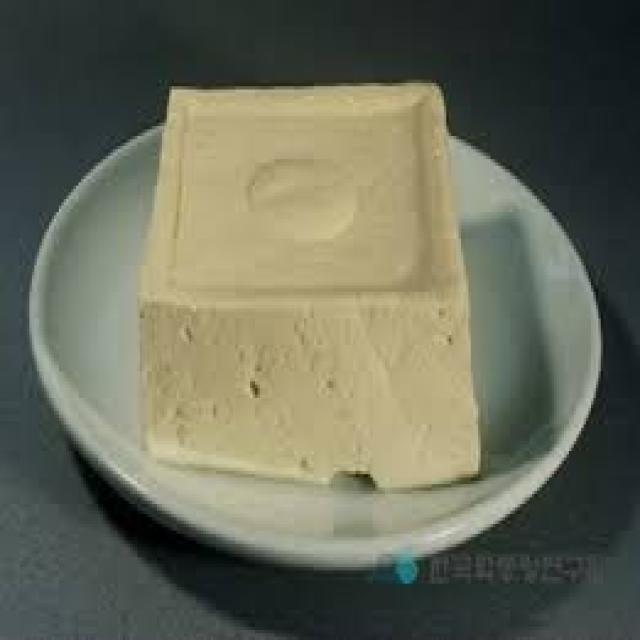tofu: (127, 55, 526, 514)
